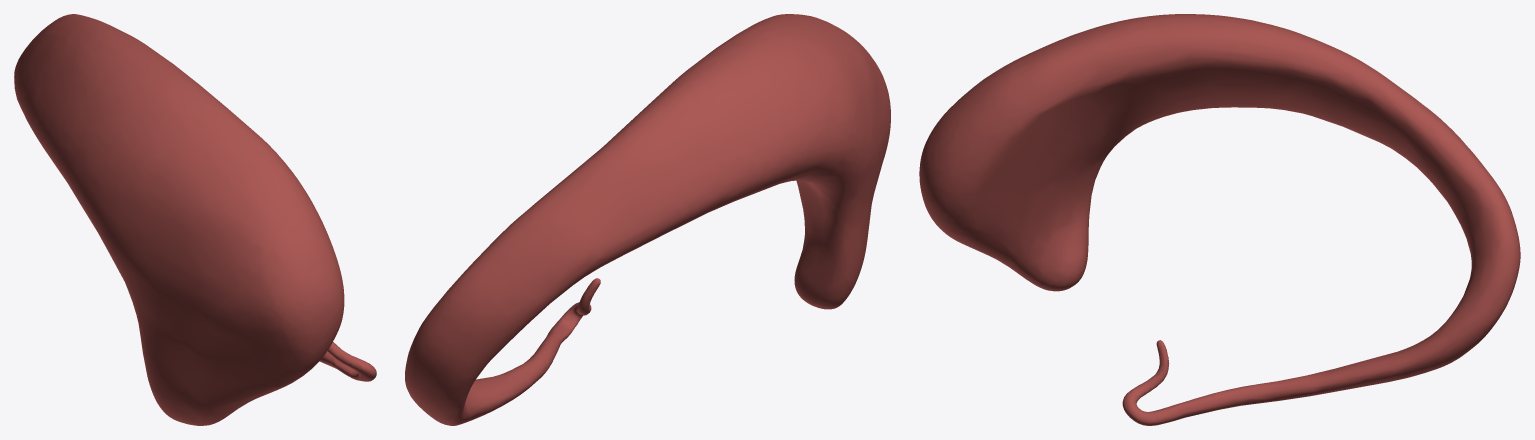
The model's file is FMA72827.glb.
3 views of the same model, side by side, from view 1: azimuth 30°, elevation 25°; view 2: azimuth 150°, elevation 25°; view 3: azimuth 270°, elevation 25° (orthographic). The views are drawn at different scales.
Visible parts, largest first — view 1: FMA72827; view 2: FMA72827; view 3: FMA72827.
Boxes of the visible parts, x1=… form: FMA72827: x1=14, y1=14, x2=376, y2=425; FMA72827: x1=405, y1=14, x2=890, y2=425; FMA72827: x1=919, y1=14, x2=1520, y2=425.
Size of the model in its own units: 0.0301 by 0.035 by 0.06.
